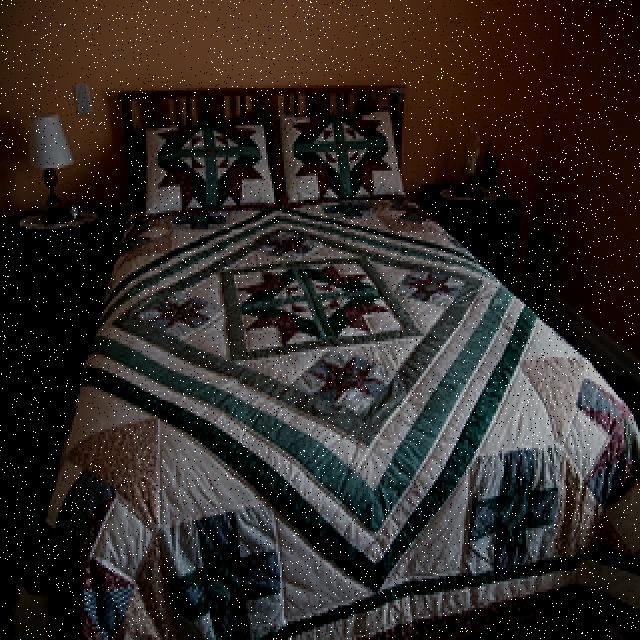bed: (69, 87, 640, 640)
